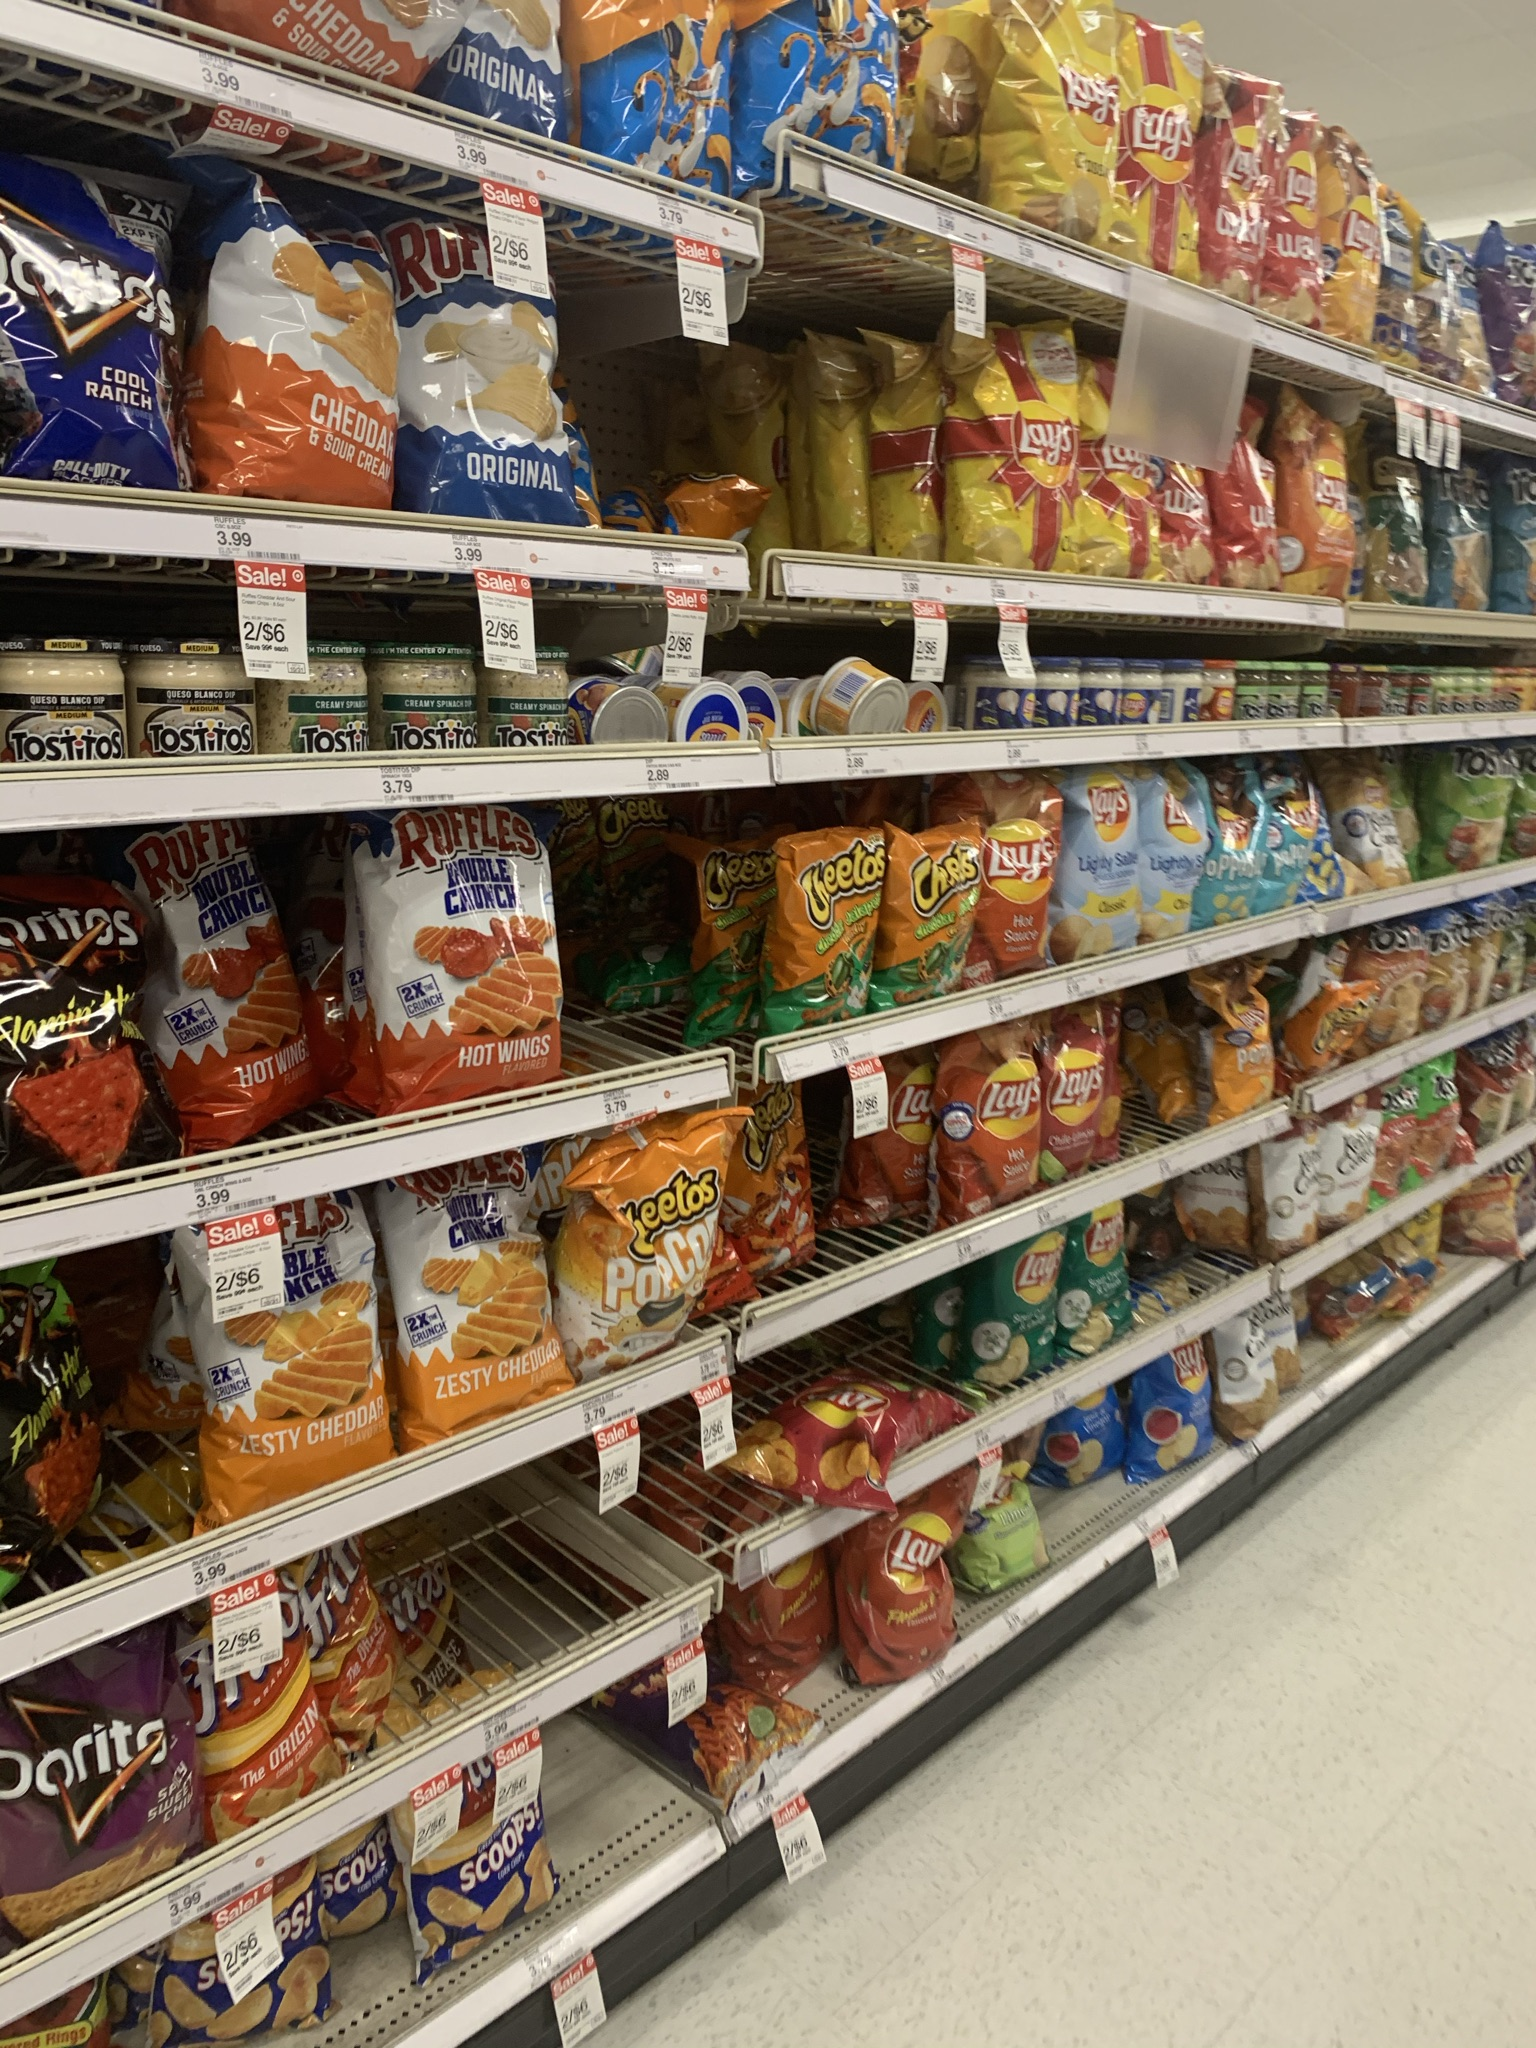chip: (202, 177, 407, 508), (136, 810, 336, 1135), (360, 813, 571, 1106), (2, 1625, 186, 1934), (369, 1159, 574, 1434), (198, 1214, 392, 1500), (2, 185, 174, 498), (402, 218, 582, 514), (552, 1109, 721, 1371), (958, 323, 1087, 576), (994, 2, 1113, 273), (933, 1014, 1050, 1232), (1105, 15, 1194, 290), (1197, 66, 1276, 331), (786, 842, 891, 1035), (957, 768, 1054, 974), (1276, 398, 1363, 614), (721, 1092, 821, 1264), (1039, 1005, 1125, 1197), (963, 1227, 1065, 1387), (892, 822, 975, 1008), (873, 1487, 952, 1672), (1070, 780, 1149, 961), (1328, 142, 1386, 381), (1273, 113, 1333, 343), (1359, 423, 1433, 608), (1426, 740, 1517, 887), (1191, 980, 1276, 1130), (1142, 769, 1212, 951), (1055, 1205, 1137, 1351), (1131, 1330, 1208, 1484), (1204, 777, 1273, 935), (1346, 930, 1428, 1056)
